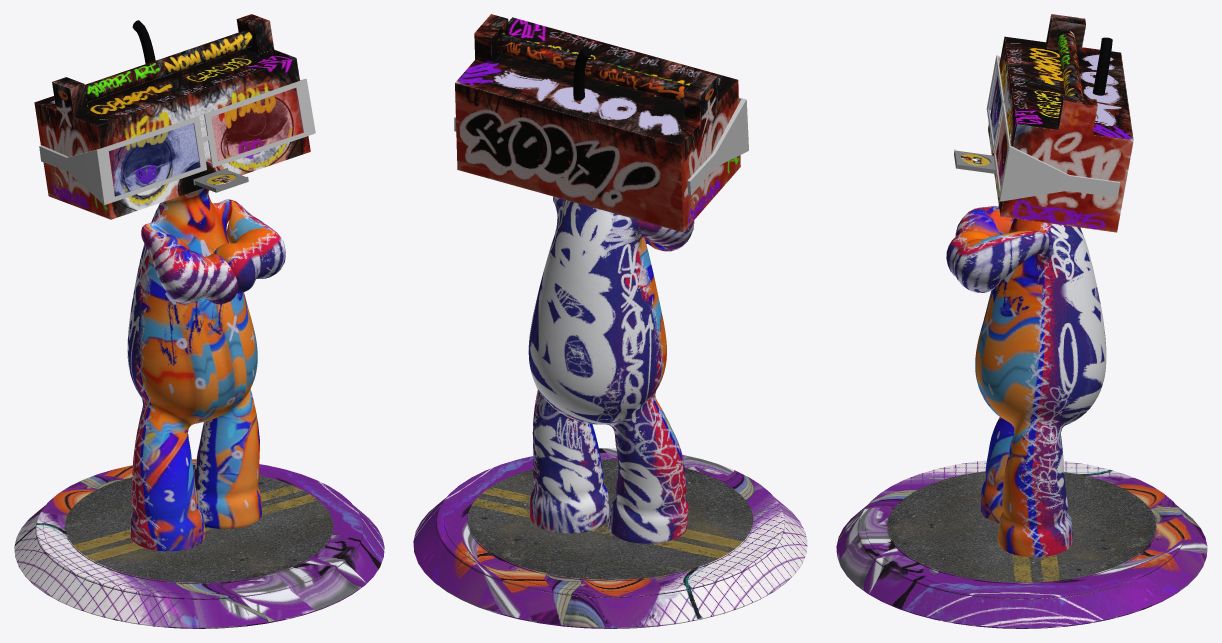
File: 294_sanitized.glb
The picture shows the model from 3 angles, left to right: view 1: azimuth 30°, elevation 25°; view 2: azimuth 150°, elevation 25°; view 3: azimuth 270°, elevation 25°; orthographic projection. The views are drawn at different scales.
Visible parts, largest first — view 1: BBody; view 2: BBody; view 3: BBody.
Boxes of the visible parts, <box> form: BBody: <box>14,14,384,628</box>; BBody: <box>413,14,807,628</box>; BBody: <box>836,14,1207,628</box>.
Bounding box in the file's own units: 1.45 × 2.17 × 1.45.
Materials: 12 (5 with a texture image).
